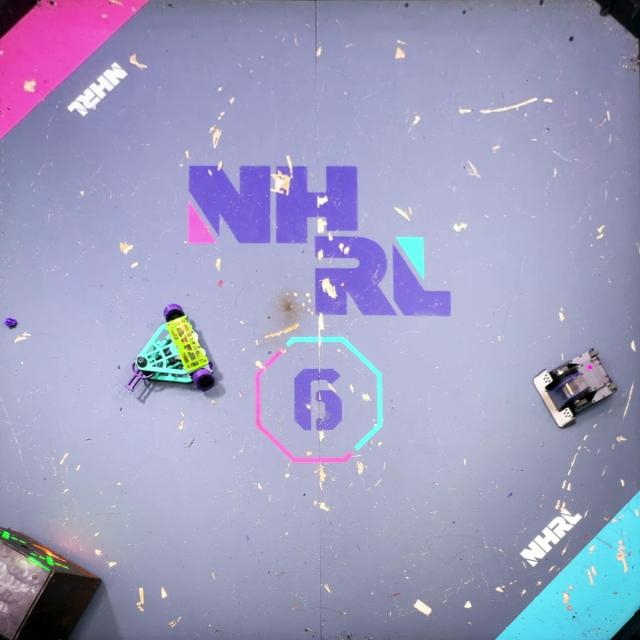housebot: (0, 525, 105, 640)
robot: (128, 300, 216, 395), (531, 345, 621, 430)
